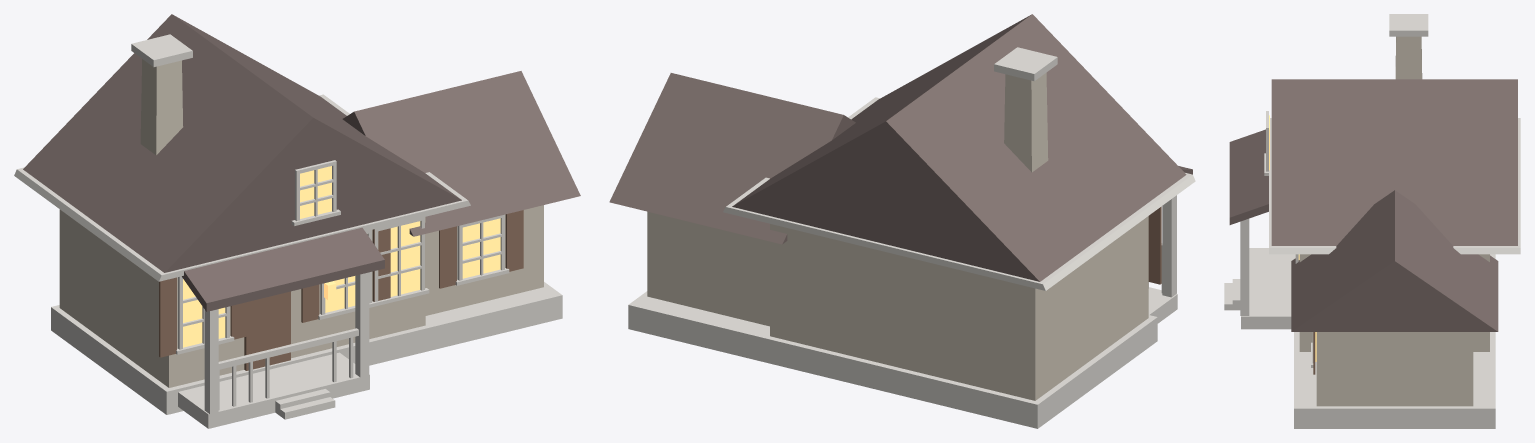
The model's file is house.glb.
The picture shows the model from 3 angles, left to right: view 1: azimuth 30°, elevation 25°; view 2: azimuth 150°, elevation 25°; view 3: azimuth 270°, elevation 25°; orthographic projection. The views are drawn at different scales.
Visible parts, largest first — view 1: FarmHouse2; view 2: FarmHouse2; view 3: FarmHouse2.
Part boxes in pixels (bbox=[...]): FarmHouse2: bbox=[14, 14, 580, 428]; FarmHouse2: bbox=[609, 14, 1195, 428]; FarmHouse2: bbox=[1224, 14, 1520, 428].
Bounding box in the file's own units: 7.8 × 5.22 × 5.3.
